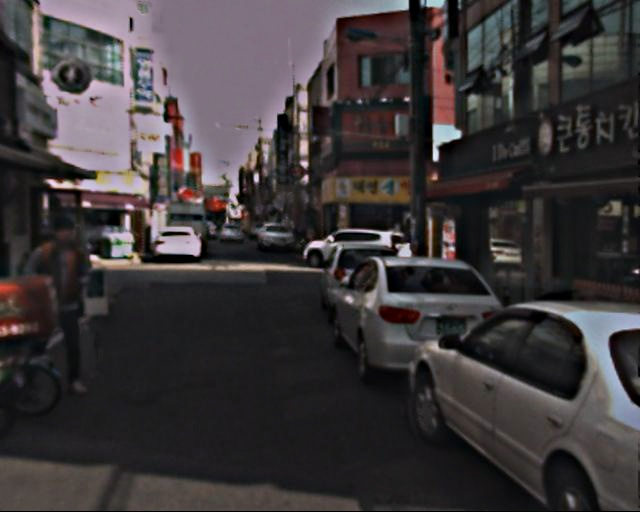person: (23, 213, 104, 391)
